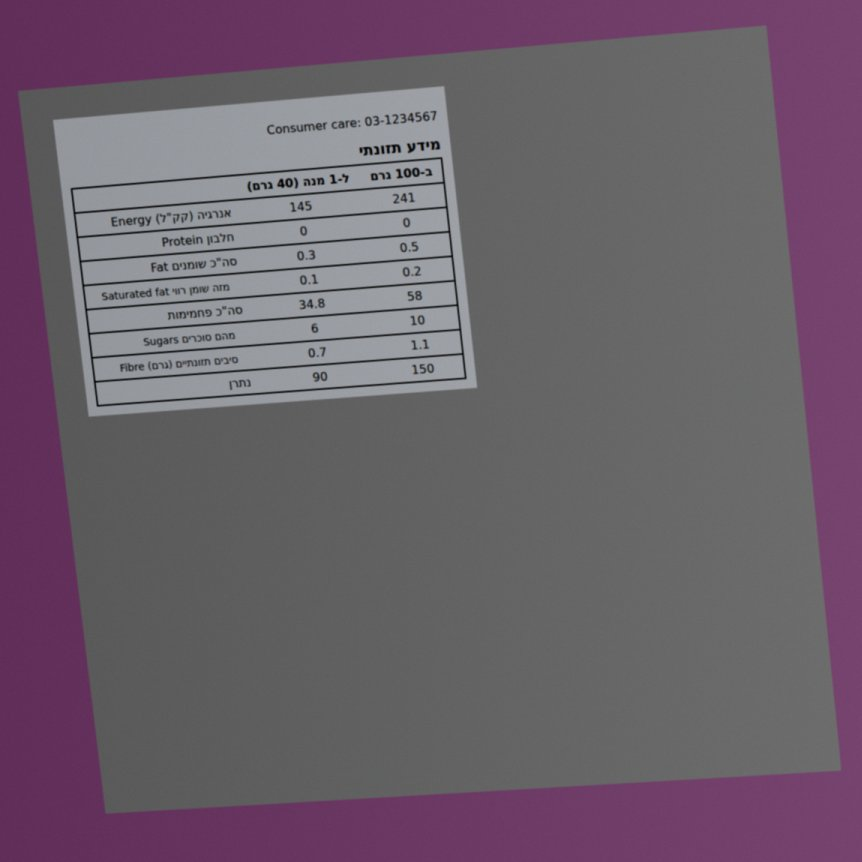carbs: (405, 287, 425, 306)
energy: (390, 188, 418, 208)
fat: (397, 238, 422, 257)
protein: (400, 214, 413, 232)
